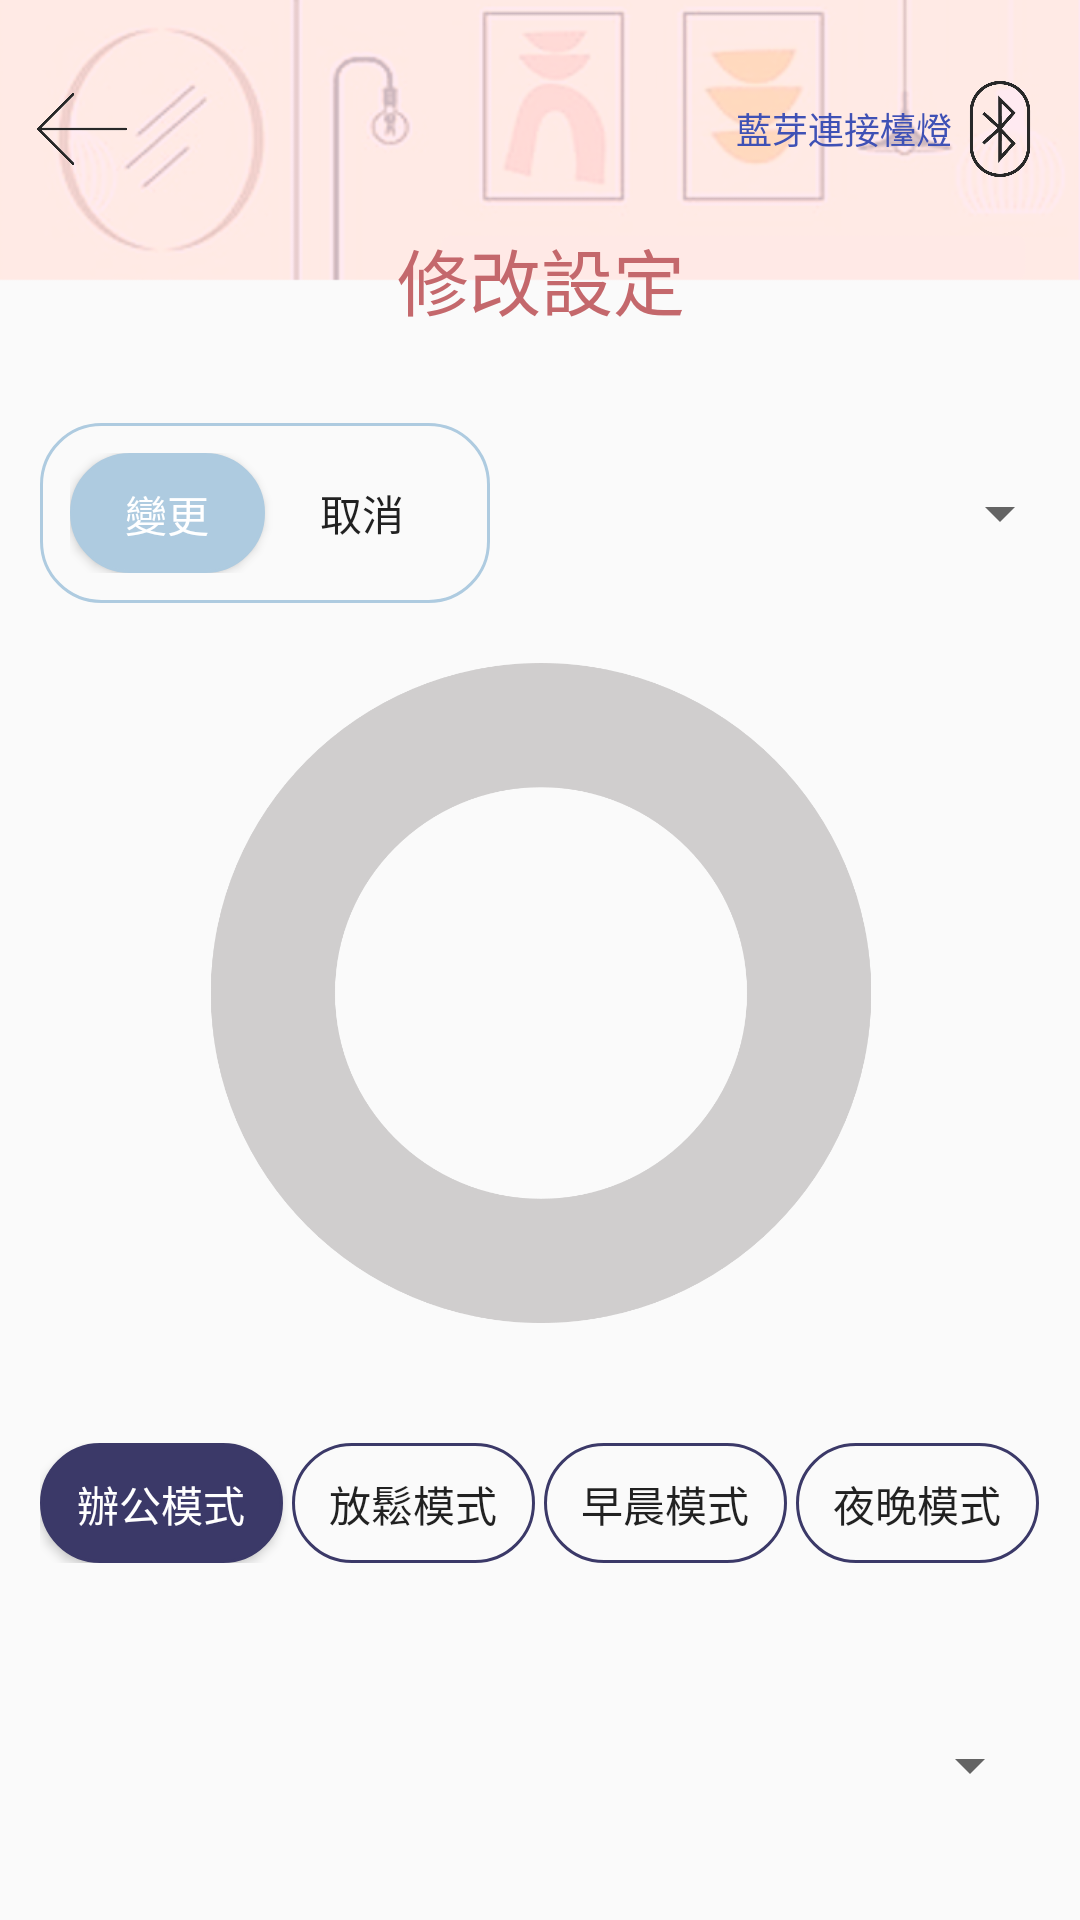

Icon bounding boxes for this 1080*1920 phone screenshot, format (x1, y1, x2, y2):
back: (37, 69, 127, 189)
